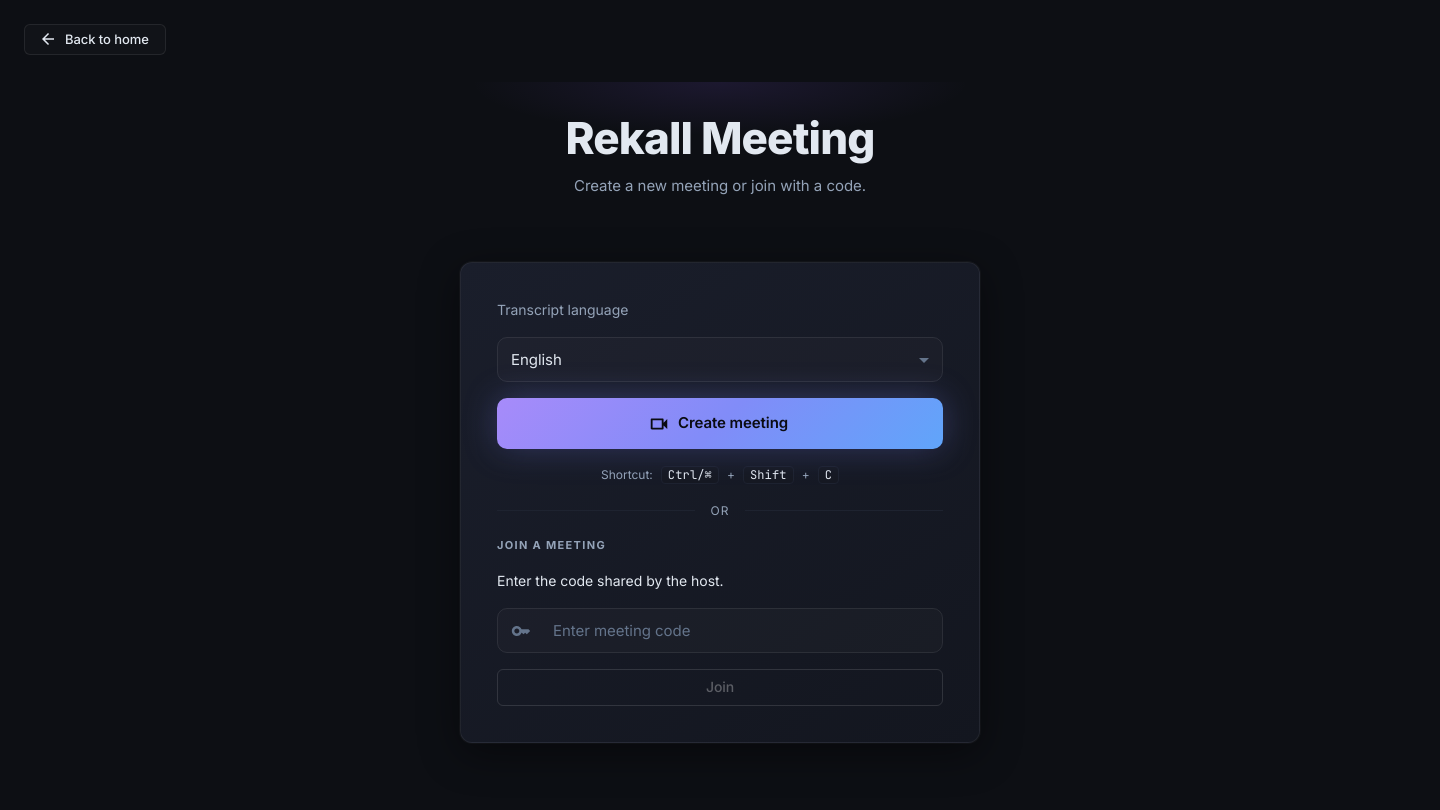
it: NewMeetingPage — Rekall layout › surfaces a structured error message on create failure
Click the button "Create meeting".
click(720, 424)  # box [497, 398, 943, 449]
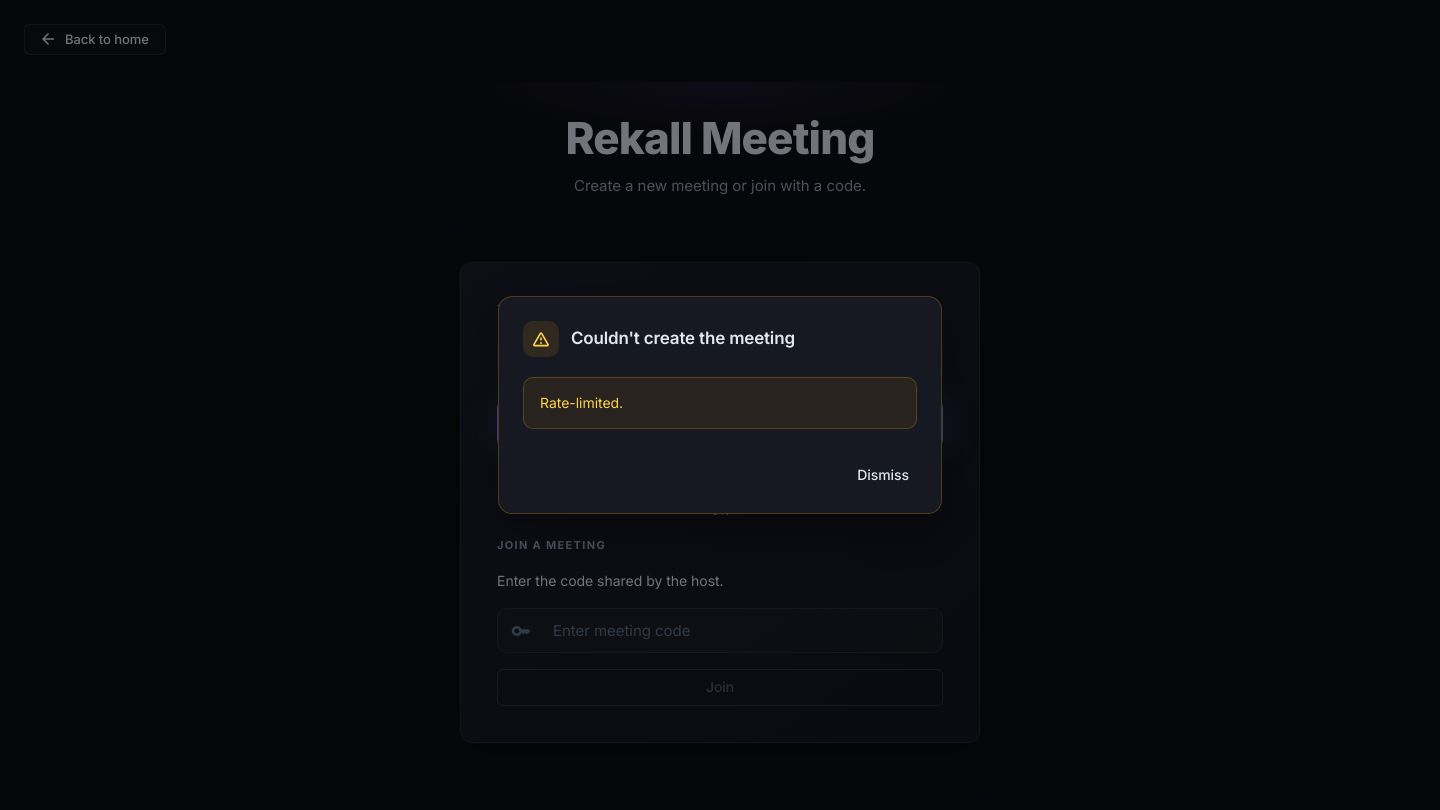
Expected: the text "Rate-limited." is shown, [540, 394, 623, 411]
